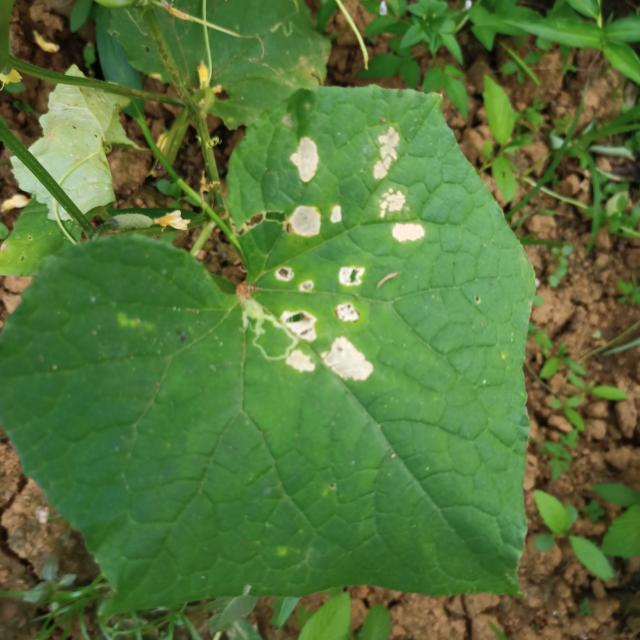disease_cucumber: (275, 137, 371, 379), (374, 127, 424, 241)
